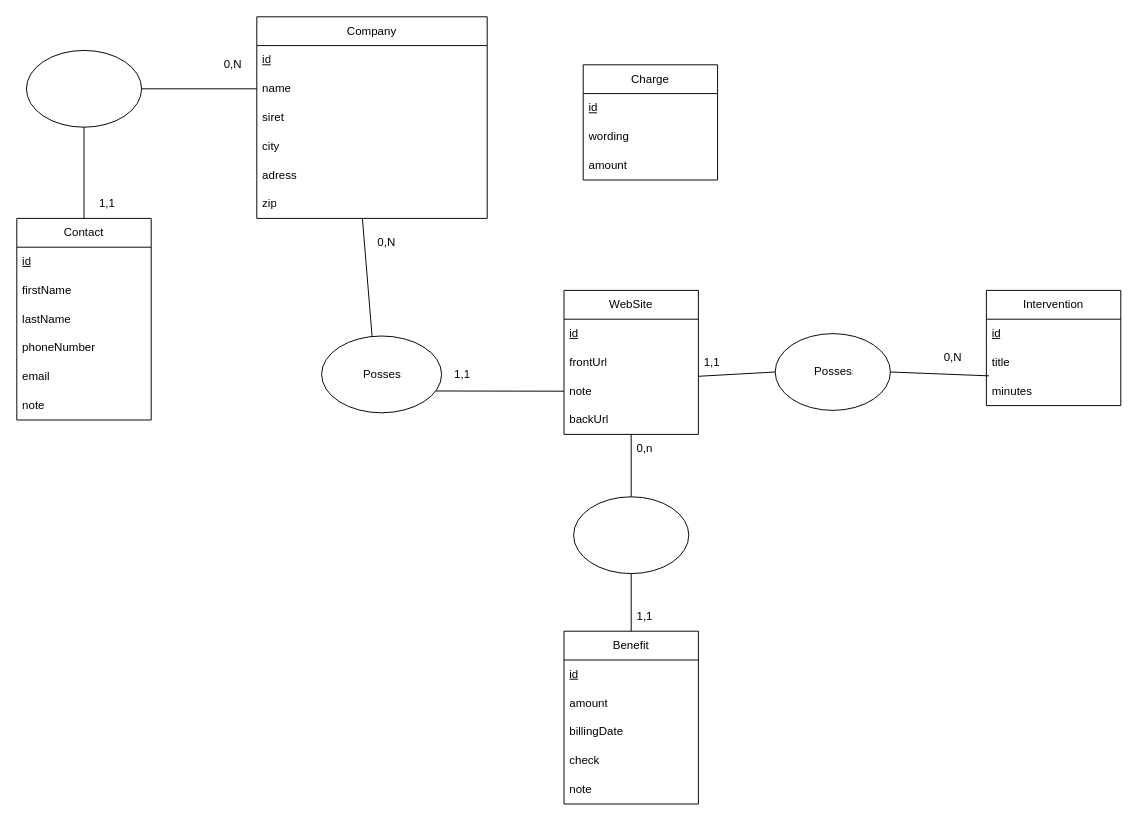
The diagram is 1138 pixels wide and 821 high, and some of its shapes have lost their labels. Here are the shapes that lost their labels. From the top down, the centre of each, then its label:
At point (83, 88): "Have".
At point (631, 535): "Link".
